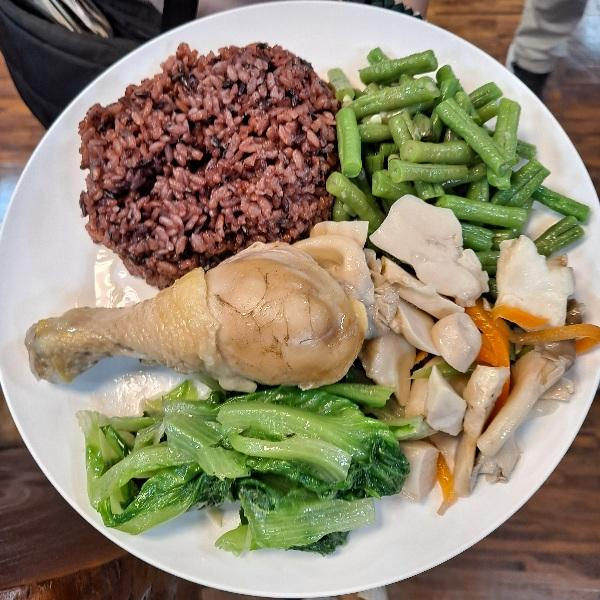big fried chicken leg: (8, 1, 600, 600)
braised fish: (74, 33, 343, 285)
braised fish fillet: (348, 204, 589, 484), (76, 368, 415, 545), (334, 42, 583, 250)
braised pork: (23, 236, 360, 404)
